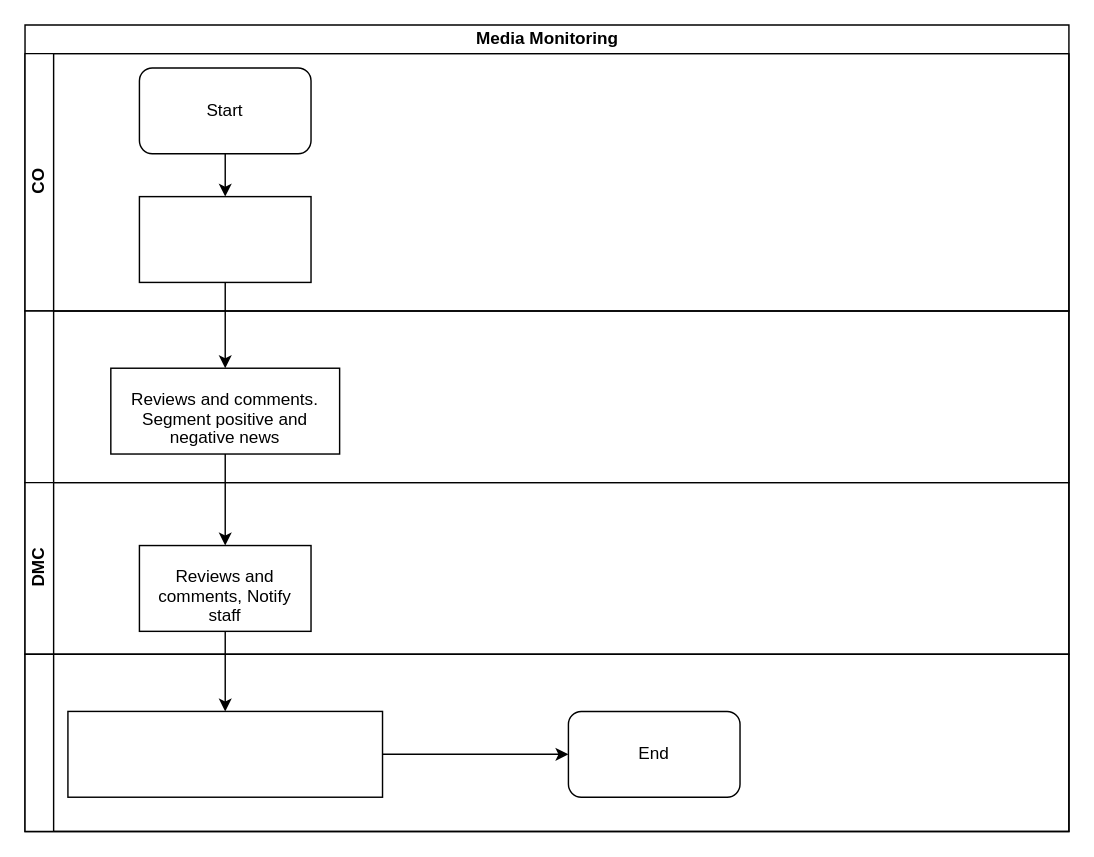
Some shapes in this 1094 by 857 pixel diagram are drawn without their labels. The box of each missing label's shape, as (x1, y1, x2, y2) in pixels:
MCC/MMP: (24, 310, 1069, 483)
MMC: (24, 653, 1069, 832)
Prepare Media Analysis Report: (138, 195, 311, 282)
Prepares a Corporate and Exports Sentiments Analysis Report, Notify Staff: (66, 710, 383, 797)
